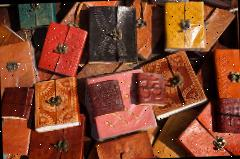paper: (84, 68, 156, 142), (138, 50, 207, 120), (173, 99, 240, 157), (86, 4, 137, 64), (36, 20, 88, 78), (32, 76, 80, 133), (162, 0, 204, 52), (128, 0, 164, 59), (0, 39, 38, 87), (212, 48, 240, 99), (128, 71, 167, 107)
